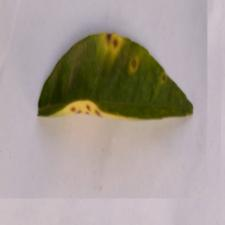Canker: (71, 42, 180, 134)
